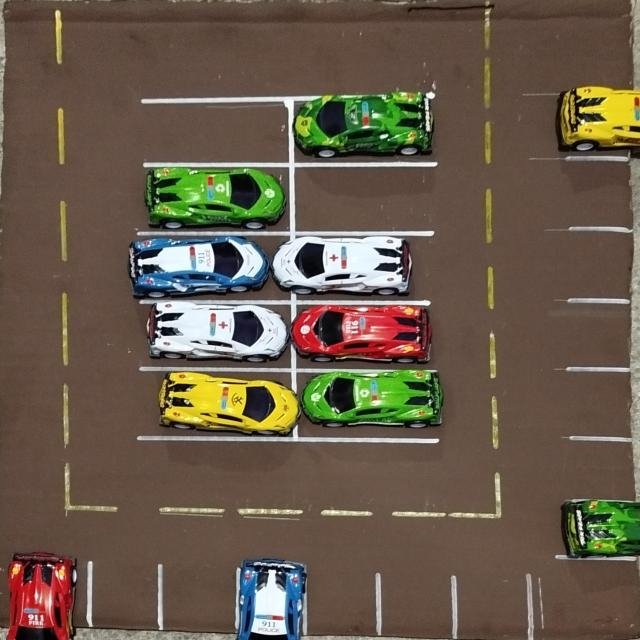libre: (138, 100, 295, 166), (292, 164, 433, 234), (453, 563, 534, 640), (164, 559, 238, 640), (304, 564, 381, 640), (91, 559, 162, 640), (382, 565, 454, 640), (569, 154, 640, 227), (570, 226, 640, 298), (568, 368, 640, 437), (571, 300, 640, 368), (570, 438, 640, 501)
no_estacionarse: (535, 560, 640, 640)
ocupado: (136, 369, 298, 439), (136, 300, 294, 370), (137, 234, 293, 301), (138, 165, 291, 233), (296, 372, 440, 441), (295, 300, 434, 370), (292, 234, 432, 302), (296, 97, 433, 163), (2, 550, 89, 640), (555, 84, 640, 158), (240, 555, 304, 640), (559, 499, 640, 559)
